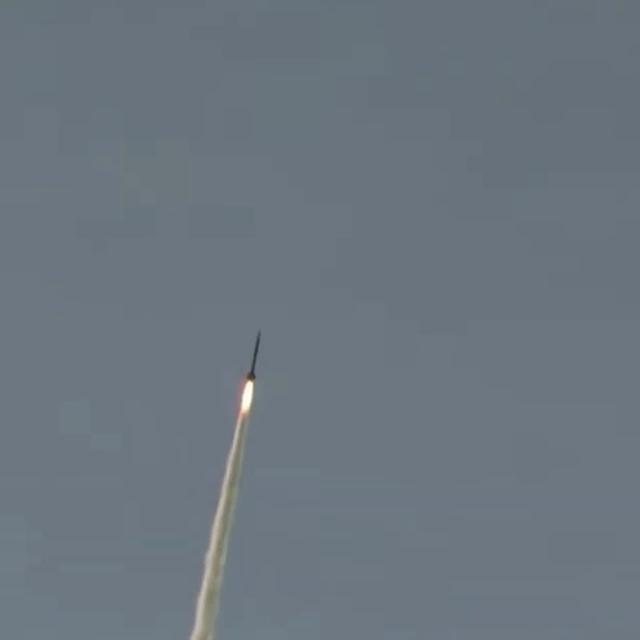smoke_trail_with_rocket: (188, 332, 260, 640)
